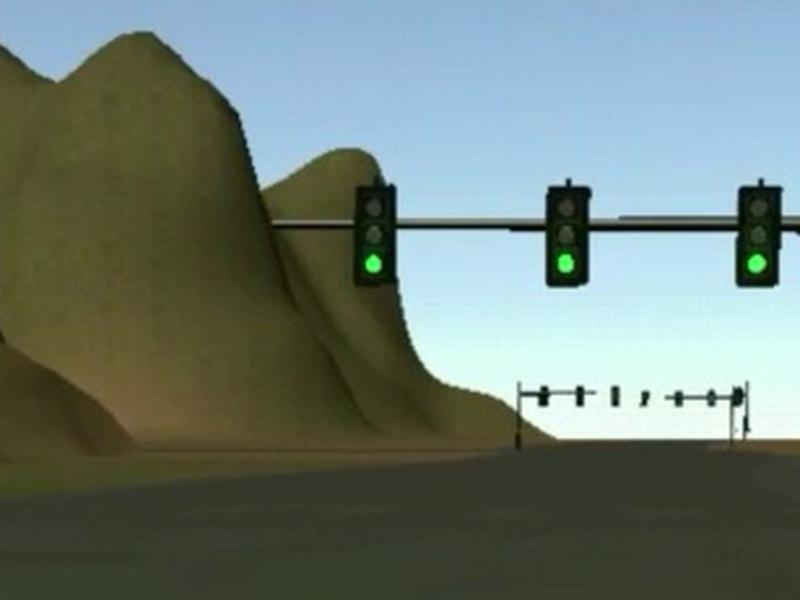Green: (736, 185, 783, 287), (545, 185, 590, 286), (354, 184, 397, 286)
